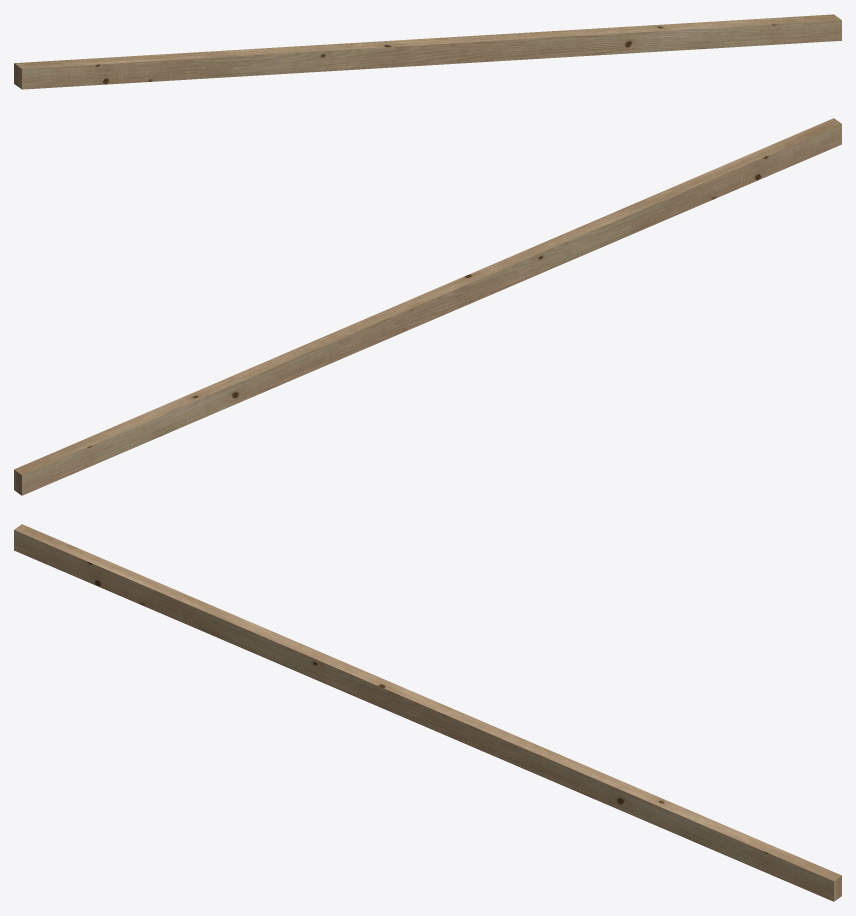
The model's file is Joglo_part_317.fbx.
The picture shows the model from 3 angles, top to bottom: view 1: azimuth 30°, elevation 25°; view 2: azimuth 210°, elevation 25°; view 3: azimuth 330°, elevation 25°; orthographic projection.
Parts seen in each view (by area): view 1: Mesh378_Wood___Pine_Grained_Horizontal_0.001; view 2: Mesh378_Wood___Pine_Grained_Horizontal_0.001; view 3: Mesh378_Wood___Pine_Grained_Horizontal_0.001.
Boxes of the visible parts, x1=… form: Mesh378_Wood___Pine_Grained_Horizontal_0.001: x1=14, y1=14, x2=841, y2=89; Mesh378_Wood___Pine_Grained_Horizontal_0.001: x1=14, y1=118, x2=841, y2=495; Mesh378_Wood___Pine_Grained_Horizontal_0.001: x1=14, y1=524, x2=841, y2=901.
Size of the model in its own units: 117 by 23.37 by 1.97.
